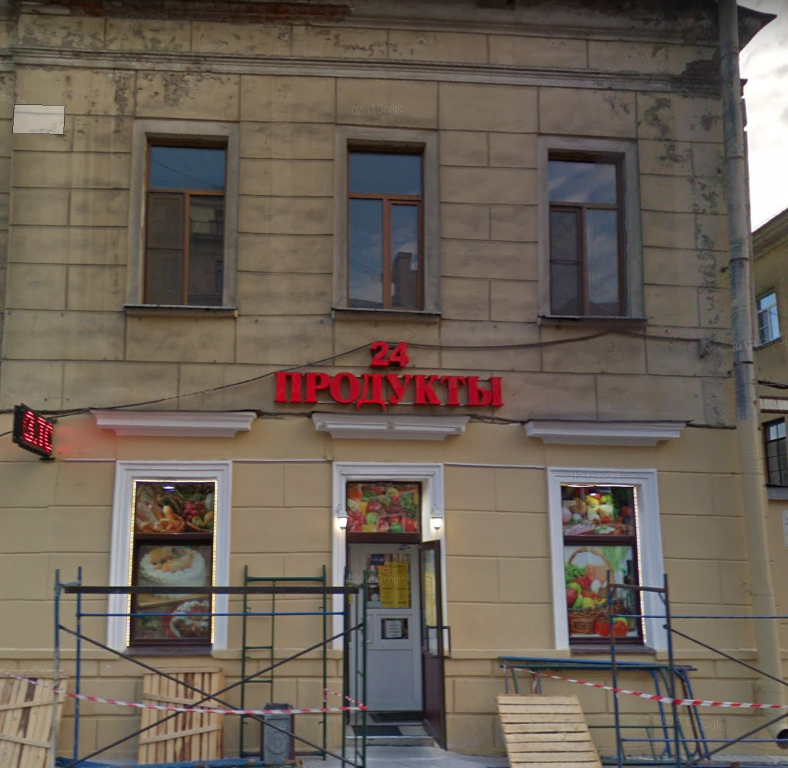cantilever: (15, 395, 56, 459)
door: (342, 534, 447, 742)
signboard: (270, 338, 511, 412)
window: (139, 140, 227, 301), (342, 137, 422, 312), (128, 476, 212, 641), (560, 485, 641, 645), (549, 154, 625, 322), (347, 480, 421, 530)
